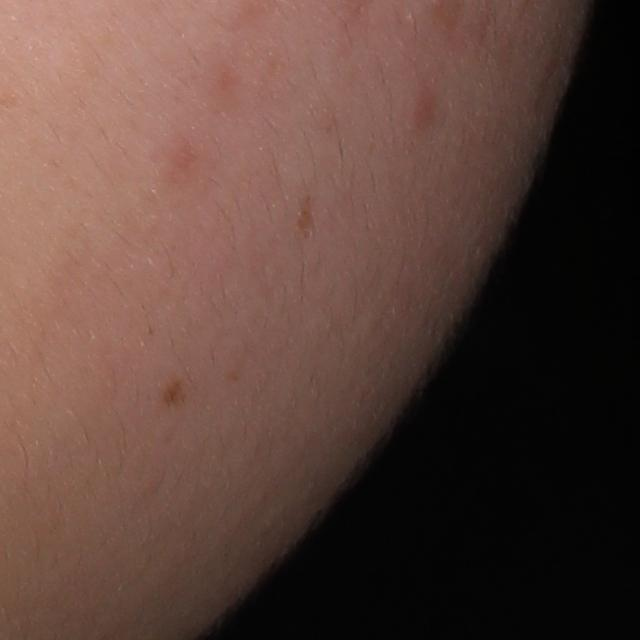nevus: (157, 377, 190, 411)
